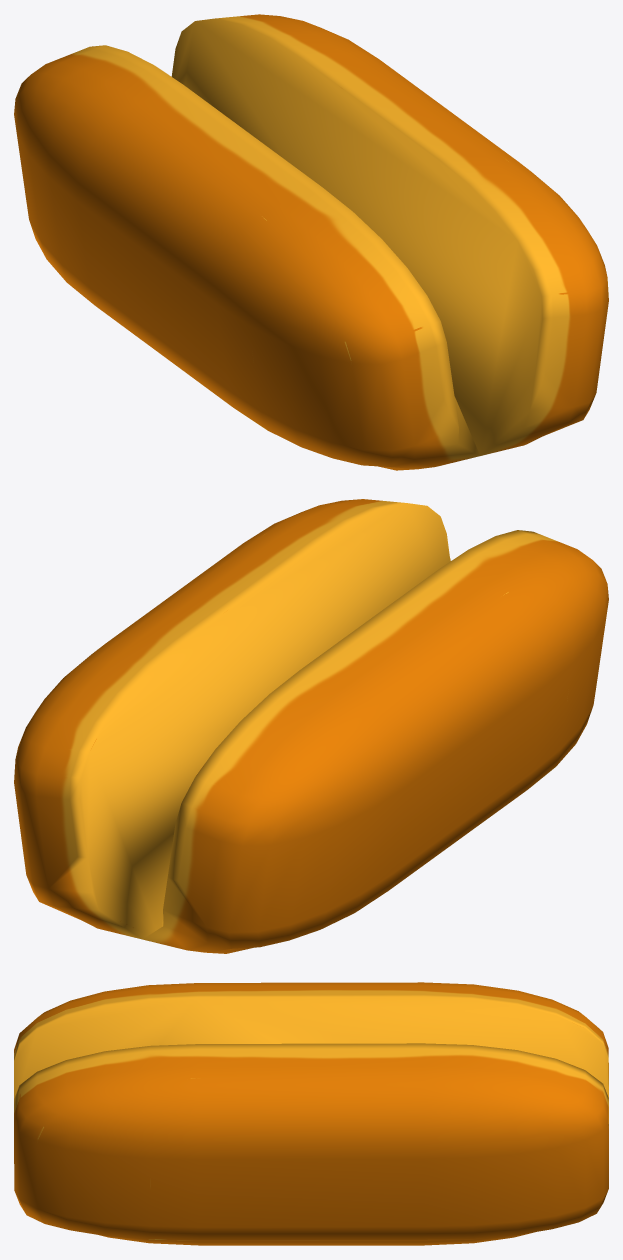
File: hotdog_bun.glb
3 views of the same model, one above another, from view 1: azimuth 30°, elevation 25°; view 2: azimuth 150°, elevation 25°; view 3: azimuth 270°, elevation 25° (orthographic). The views are drawn at different scales.
Parts seen in each view (by area): view 1: Cube; view 2: Cube; view 3: Cube.
Part boxes in pixels (<box>): Cube: <box>14,14,608,470</box>; Cube: <box>14,499,608,953</box>; Cube: <box>14,982,608,1245</box>.
Bounding box in the file's own units: 0.5558 × 0.3979 × 1.07.
Materials: 1 (1 with a texture image).
